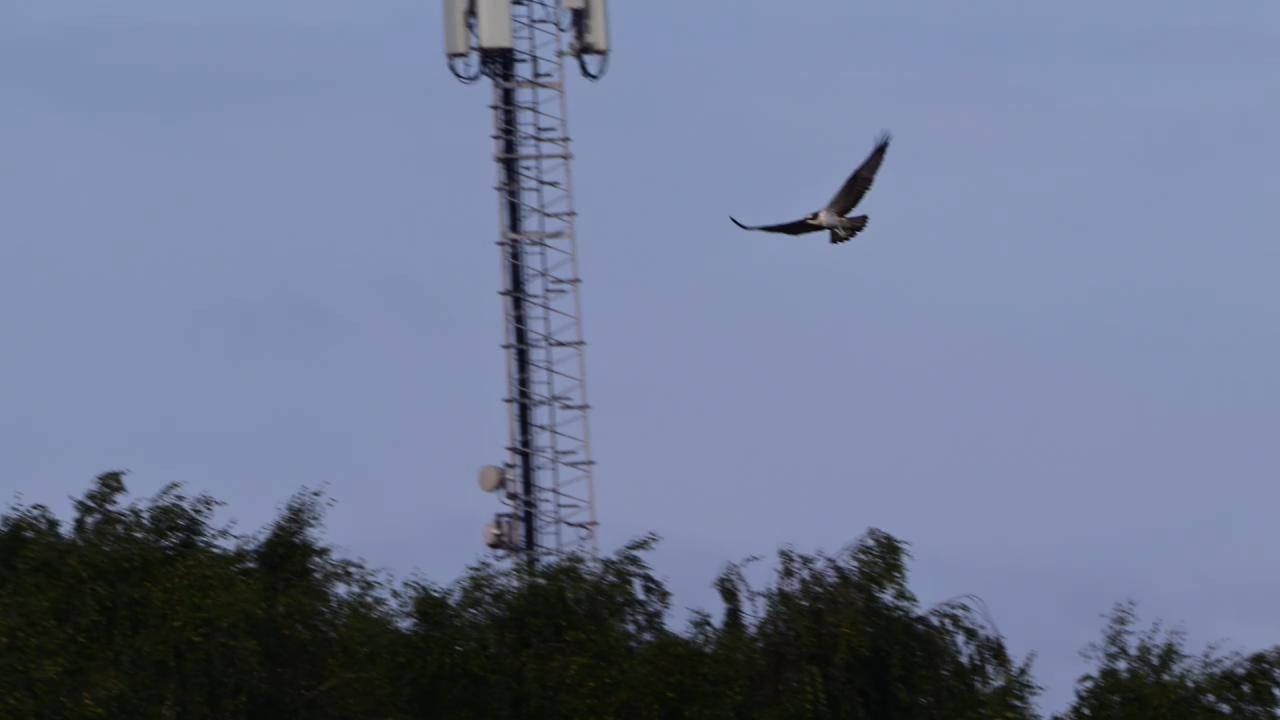Bird: (715, 120, 919, 266)
